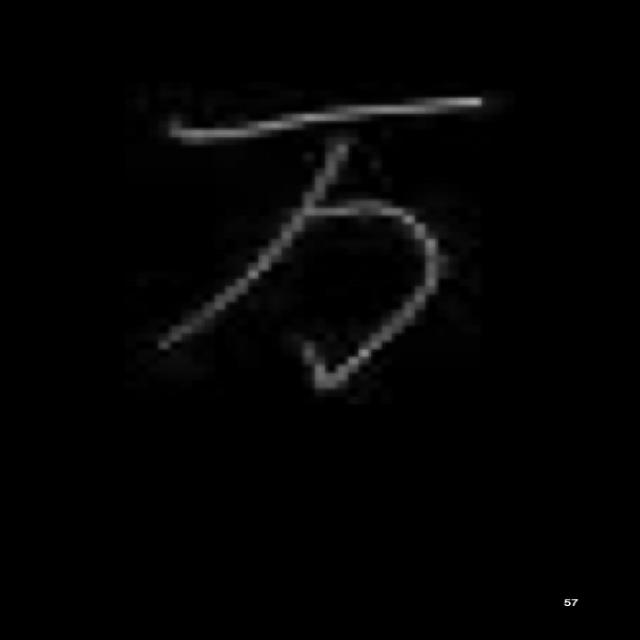10000 -a ten thousand-: (129, 80, 504, 390)
